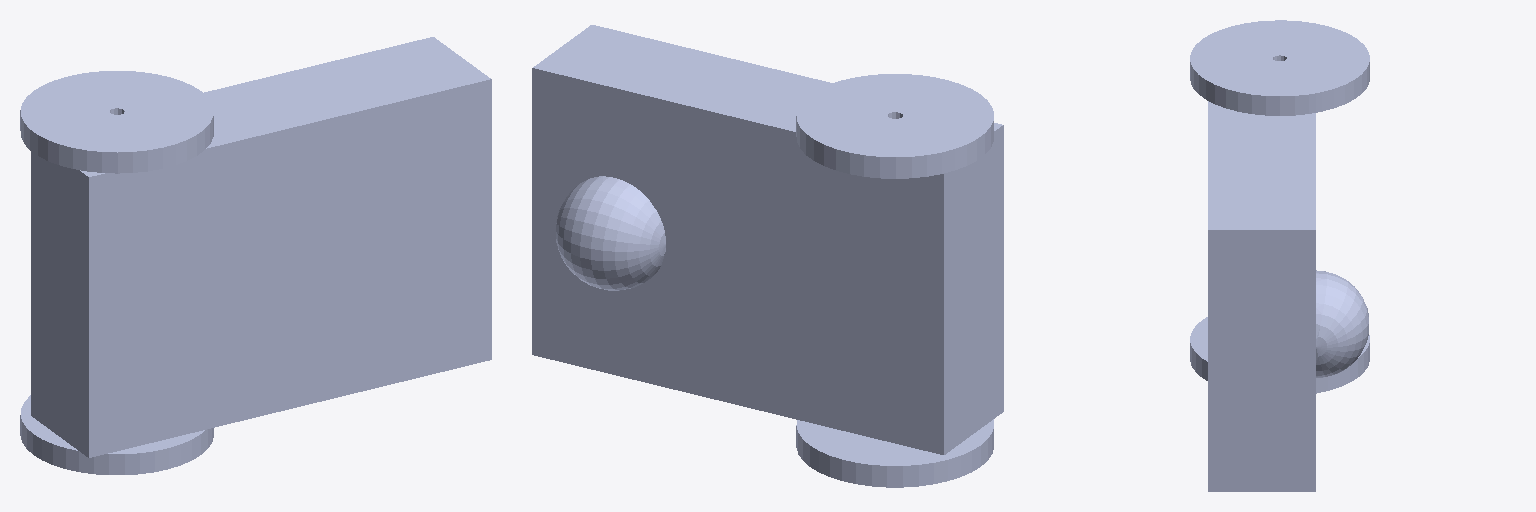
robot.urdf — robot:
<?xml version="1.0" encoding="utf-8"?>
<!-- This URDF was automatically created by SolidWorks to URDF Exporter! Originally created by [author] ([email redacted]) 
     Commit Version: 1.6.0-1-g15f4949  Build Version: 1.6.7594.29634
     For more information, please see http://wiki.ros.org/sw_urdf_exporter -->
<robot
  name="robot">
  <link
    name="base_link">
    <inertial>
      <origin
        xyz="0.019318 -6.5767E-18 0.072607"
        rpy="0 0 0" />
      <mass
        value="5" />
      <inertia
        ixx="0.55622"
        ixy="-6.1708E-18"
        ixz="0.016589"
        iyy="1.1806"
        iyz="-4.5062E-18"
        izz="1.583" />
    </inertial>
    <visual>
      <origin
        xyz="0 0 0"
        rpy="0 0 0" />
      <geometry>
        <mesh
          filename="package://robot/meshes/base_link.STL" />
      </geometry>
      <material
        name="">
        <color
          rgba="0.79216 0.81961 0.93333 1" />
      </material>
    </visual>
    <collision>
      <origin
        xyz="0 0 0"
        rpy="0 0 0" />
      <geometry>
        <mesh
          filename="package://robot/meshes/base_link.STL" />
      </geometry>
    </collision>
  </link>
  <link
    name="left_link">
    <inertial>
      <origin
        xyz="0 0 -0.015"
        rpy="0 0 0" />
      <mass
        value="0.5" />
      <inertia
        ixx="0.0058619"
        ixy="-2.1684E-19"
        ixz="3.0823E-21"
        iyy="0.0058619"
        iyz="-1.2507E-20"
        izz="0.011504" />
    </inertial>
    <visual>
      <origin
        xyz="0 0 0"
        rpy="0 0 0" />
      <geometry>
        <mesh
          filename="package://robot/meshes/left_link.STL" />
      </geometry>
      <material
        name="">
        <color
          rgba="0.79216 0.81961 0.93333 1" />
      </material>
    </visual>
    <collision>
      <origin
        xyz="0 0 0"
        rpy="0 0 0" />
      <geometry>
        <mesh
          filename="package://robot/meshes/left_link.STL" />
      </geometry>
    </collision>
  </link>
  <joint
    name="left_joint"
    type="continuous">
    <origin
      xyz="-0.18569 -0.05 0.2"
      rpy="3.1416 0 0.40679" />
    <parent
      link="base_link" />
    <child
      link="left_link" />
    <axis
      xyz="0 0 -1" />
  </joint>
  <link
    name="Right_link">
    <inertial>
      <origin
        xyz="2.7756E-17 6.9389E-18 0.015"
        rpy="0 0 0" />
      <mass
        value="0.5" />
      <inertia
        ixx="0.0058619"
        ixy="-3.5994E-39"
        ixz="-3.9185E-35"
        iyy="0.0058619"
        iyz="-5.37E-36"
        izz="0.011504" />
    </inertial>
    <visual>
      <origin
        xyz="0 0 0"
        rpy="0 0 0" />
      <geometry>
        <mesh
          filename="package://robot/meshes/Right_link.STL" />
      </geometry>
      <material
        name="">
        <color
          rgba="0.79216 0.81961 0.93333 1" />
      </material>
    </visual>
    <collision>
      <origin
        xyz="0 0 0"
        rpy="0 0 0" />
      <geometry>
        <mesh
          filename="package://robot/meshes/Right_link.STL" />
      </geometry>
    </collision>
  </link>
  <joint
    name="right_joint"
    type="continuous">
    <origin
      xyz="-0.18569 -0.05 -0.2"
      rpy="3.1416 0 0" />
    <parent
      link="base_link" />
    <child
      link="Right_link" />
    <axis
      xyz="0 0 -1" />
  </joint>

  <gazebo>
    <plugin filename="libgazebo_ros_diff_drive.so" name="differential_drive_controller">
      <alwaysOn>true</alwaysOn>
      <updateRate>20</updateRate>
      <leftJoint>left_joint</leftJoint>
      <rightJoint>right_joint</rightJoint>
      <wheelSeparation>0.400</wheelSeparation>
      <wheelDiameter>0.25</wheelDiameter>
      <torque>8</torque>
      <commandTopic>cmd_vel</commandTopic>
      <odometryTopic>odom</odometryTopic>
      <odometryFrame>odom</odometryFrame>
      <robotBaseFrame>base_link</robotBaseFrame>
    </plugin>
  </gazebo>
</robot>

--- Facts derived from the render (not from the file) ---
Views: 3 orthographic renders of the robot side by side, from view 1: azimuth 30°, elevation 25°; view 2: azimuth 150°, elevation 25°; view 3: azimuth 270°, elevation 25°.
Robot: robot — 3 links, 2 joints (2 continuous); root link base_link; default pose: every joint at zero.
Links seen in each view (by area): view 1: base_link, left_link, Right_link; view 2: base_link, left_link, Right_link; view 3: base_link, left_link, Right_link.
Boxes of the visible links, x1=… form: base_link: x1=31, y1=37, x2=491, y2=457; left_link: x1=20, y1=71, x2=213, y2=173; Right_link: x1=20, y1=395, x2=213, y2=474; base_link: x1=532, y1=25, x2=1003, y2=454; left_link: x1=796, y1=74, x2=993, y2=178; Right_link: x1=796, y1=419, x2=993, y2=487; base_link: x1=1208, y1=101, x2=1368, y2=491; left_link: x1=1190, y1=20, x2=1369, y2=115; Right_link: x1=1190, y1=317, x2=1369, y2=393.
Bounding box of the posed robot: 0.625 × 0.2498 × 0.46 m (x, y, z).
3 mesh visuals loaded from 3 distinct referenced files (3 binary STL).